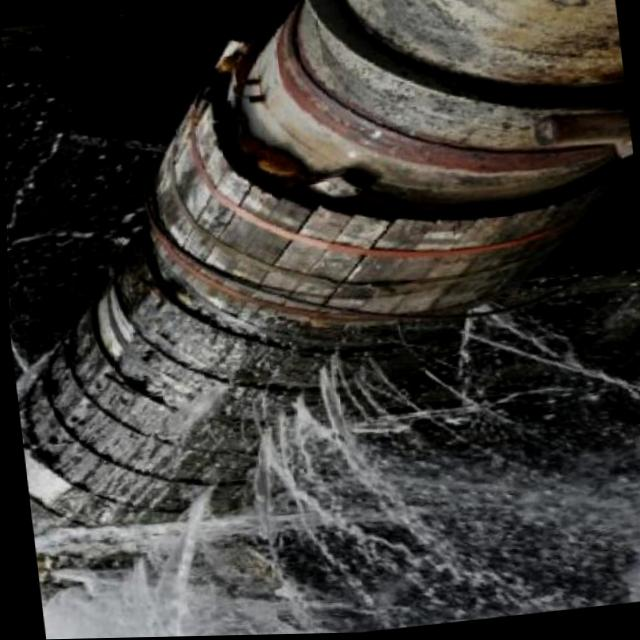leak: (33, 292, 640, 639), (6, 65, 190, 261)
